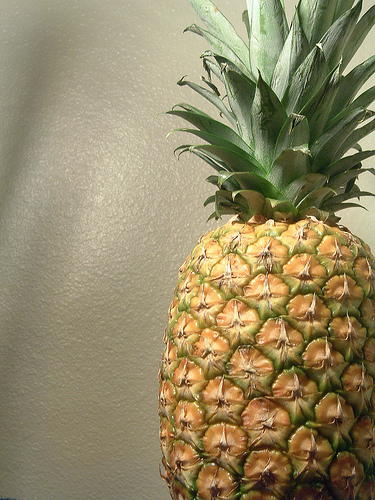pineapple: (153, 0, 373, 498)
